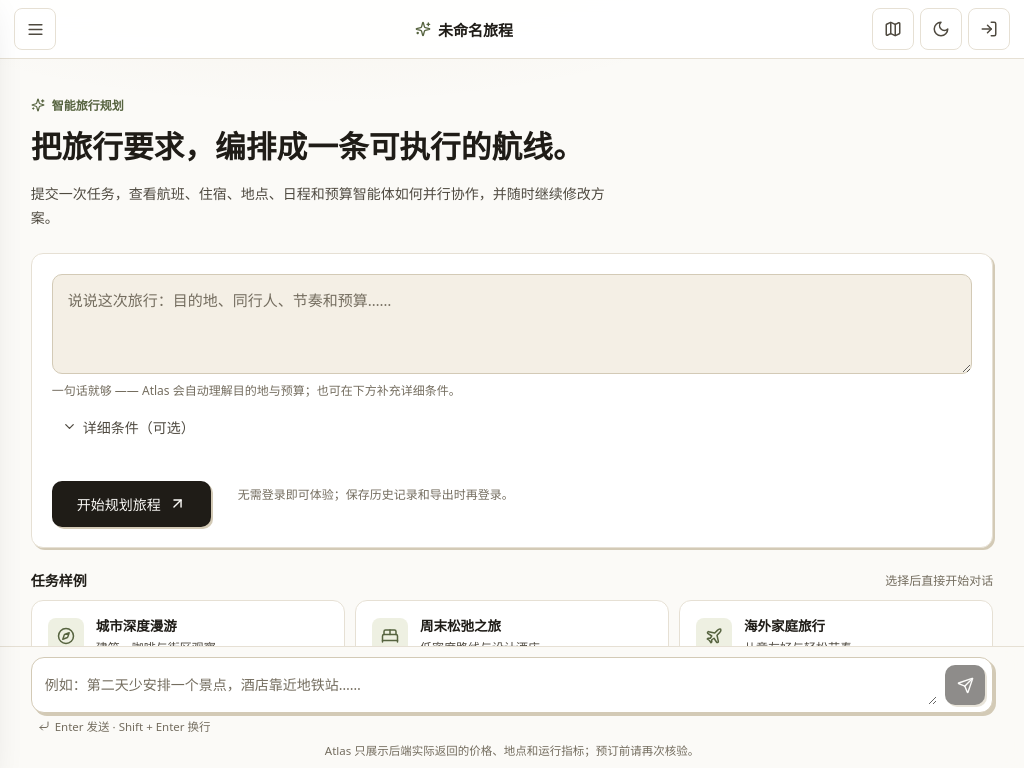
Test: Atlas page integration › applies a structured example to the command strip before planning
Click the button "周末松弛之旅 低密度路线与设计酒店" at (390, 636), box [355,600,669,672]
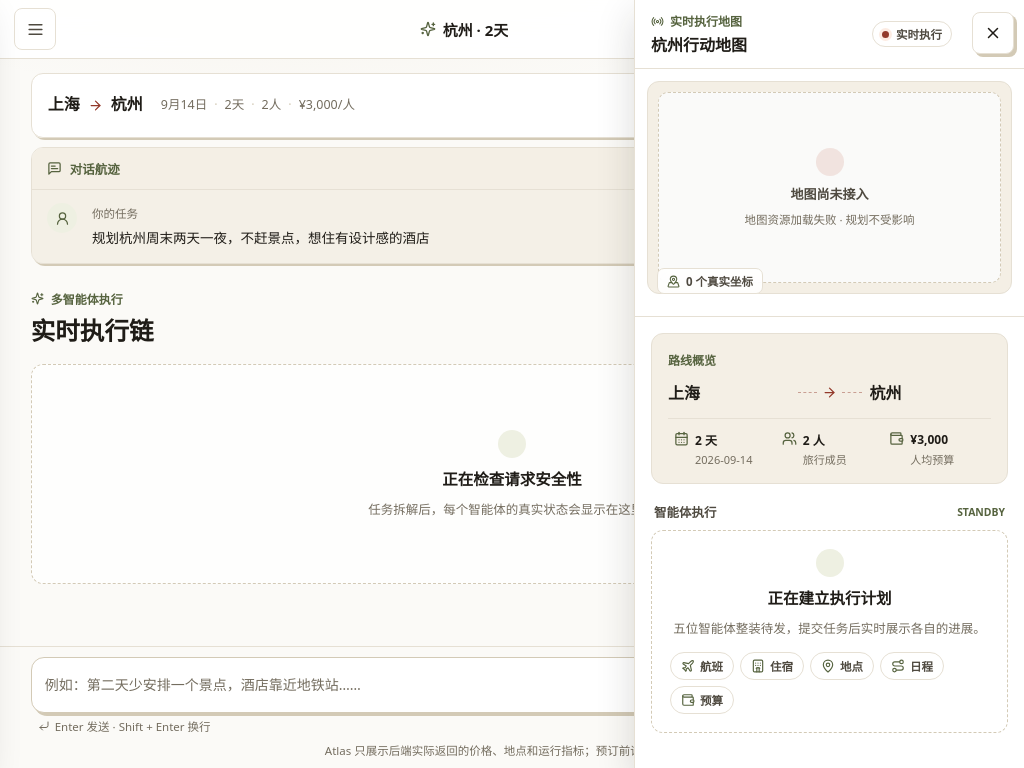
Expected: the text "杭州" next to "9月14日" is shown, [111,96,143,113]
